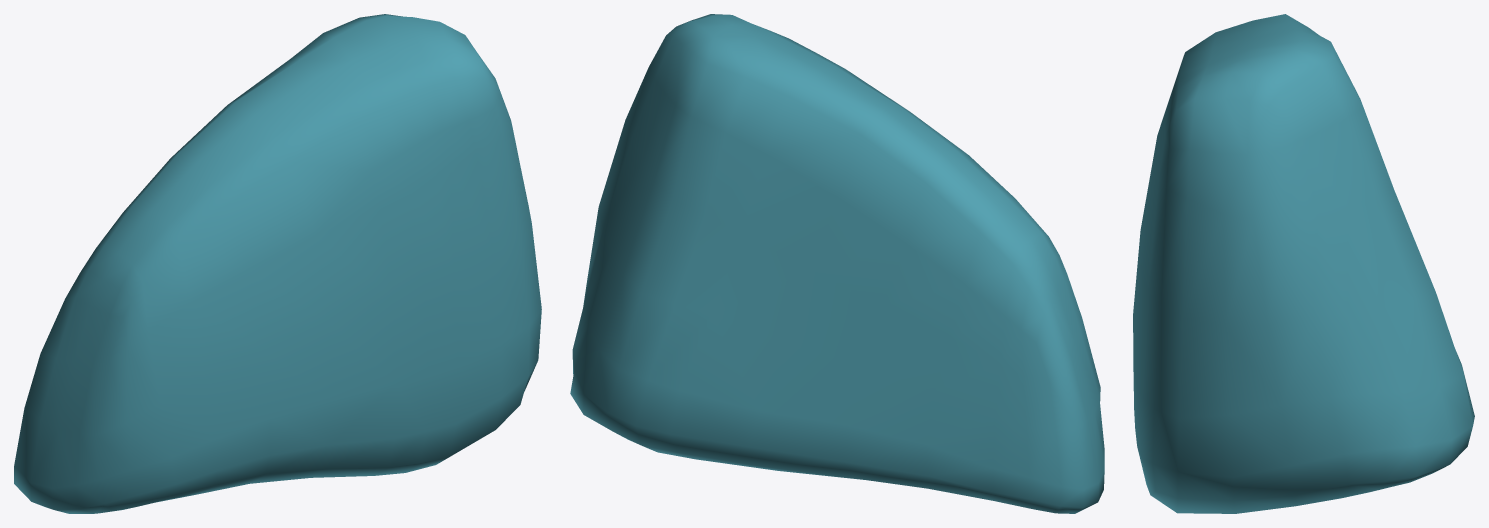
Rendered from VIS_Alpha_Surface_003.dae.
3 views of the same model, side by side, from view 1: azimuth 30°, elevation 25°; view 2: azimuth 150°, elevation 25°; view 3: azimuth 270°, elevation 25° (orthographic). The views are drawn at different scales.
Parts seen in each view (by area): view 1: VIS_Alpha_Surface_003; view 2: VIS_Alpha_Surface_003; view 3: VIS_Alpha_Surface_003.
Part boxes in pixels (bbox=[...]): VIS_Alpha_Surface_003: bbox=[14, 14, 541, 513]; VIS_Alpha_Surface_003: bbox=[570, 14, 1104, 513]; VIS_Alpha_Surface_003: bbox=[1133, 14, 1474, 513].
Bounding box in the file's own units: 10.65 × 5.76 × 8.5.
